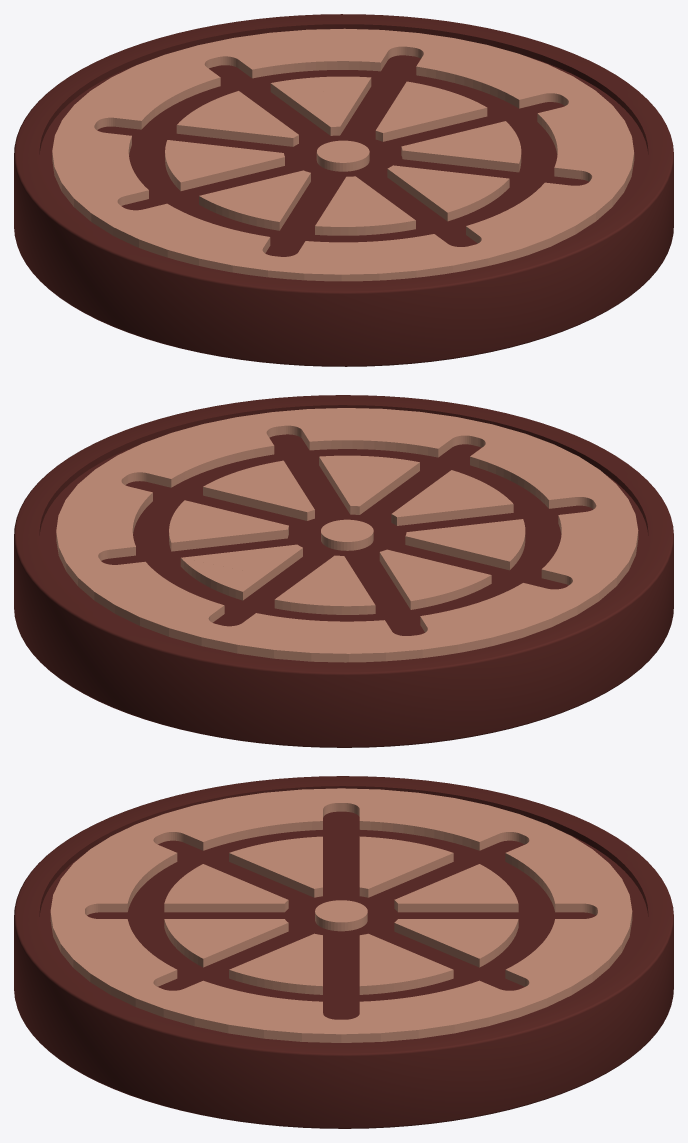
File: Wheel_R.fbx
3 renders of one model, top to bottom at view 1: azimuth 30°, elevation 25°; view 2: azimuth 150°, elevation 25°; view 3: azimuth 270°, elevation 25°, orthographic.
Parts seen in each view (by area): view 1: Tile09.002; view 2: Tile09.002; view 3: Tile09.002.
Boxes of the visible parts, x1,y1,x2,y2 form: Tile09.002: [14, 14, 673, 366]; Tile09.002: [14, 395, 673, 747]; Tile09.002: [14, 776, 673, 1128].
Bounding box in the file's own units: 13.25 × 1.72 × 13.25.
